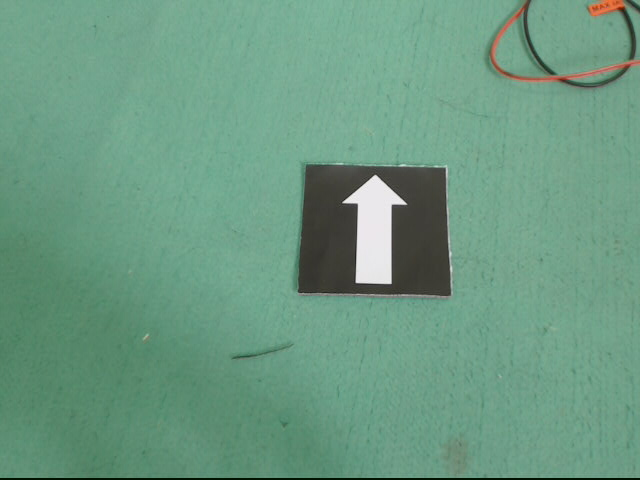straight: (300, 163, 455, 294)
